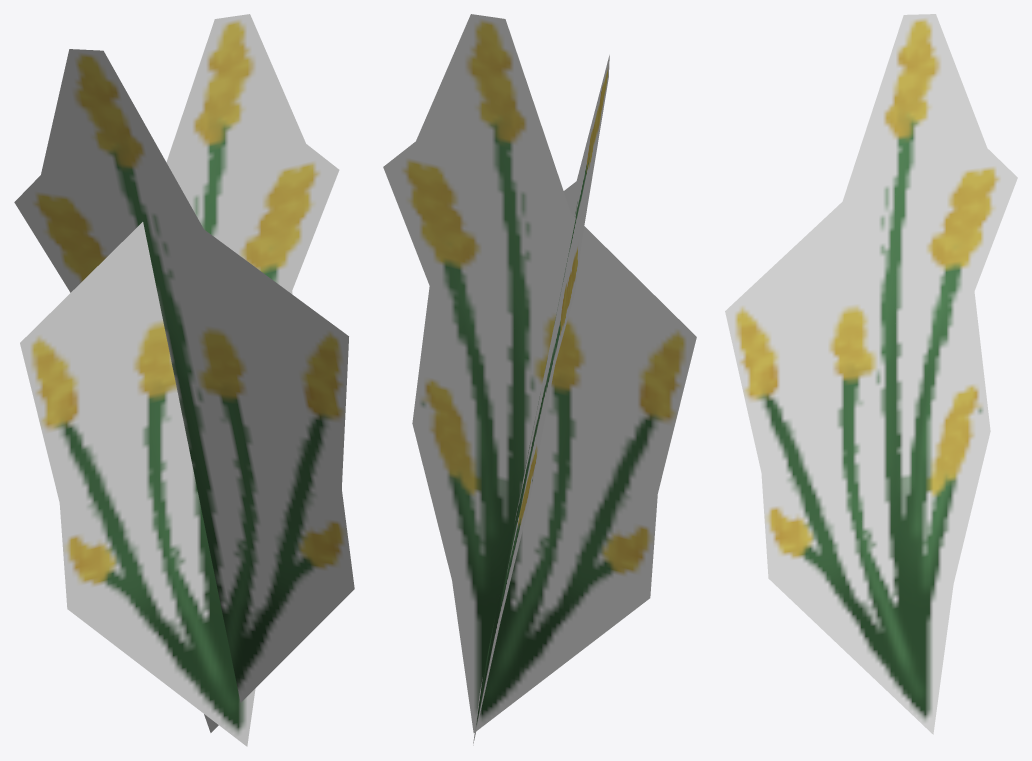
File: Flower_03.fbx
3 views of the same model, side by side, from view 1: azimuth 30°, elevation 25°; view 2: azimuth 150°, elevation 25°; view 3: azimuth 270°, elevation 25° (orthographic). The views are drawn at different scales.
Visible parts, largest first — view 1: SM_StandingFlower_02; view 2: SM_StandingFlower_02; view 3: SM_StandingFlower_02.
Boxes of the visible parts, bbox=[...] form: SM_StandingFlower_02: bbox=[14, 14, 354, 746]; SM_StandingFlower_02: bbox=[383, 14, 696, 745]; SM_StandingFlower_02: bbox=[725, 14, 1017, 734].
Bounding box in the file's own units: 13.46 × 29.61 × 11.65.
